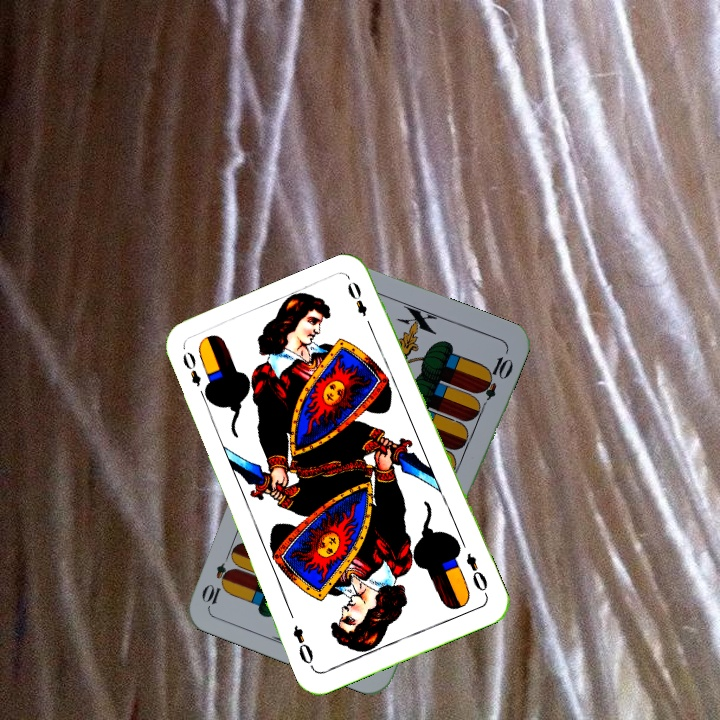EO: (178, 347, 210, 403), (462, 549, 491, 599)
